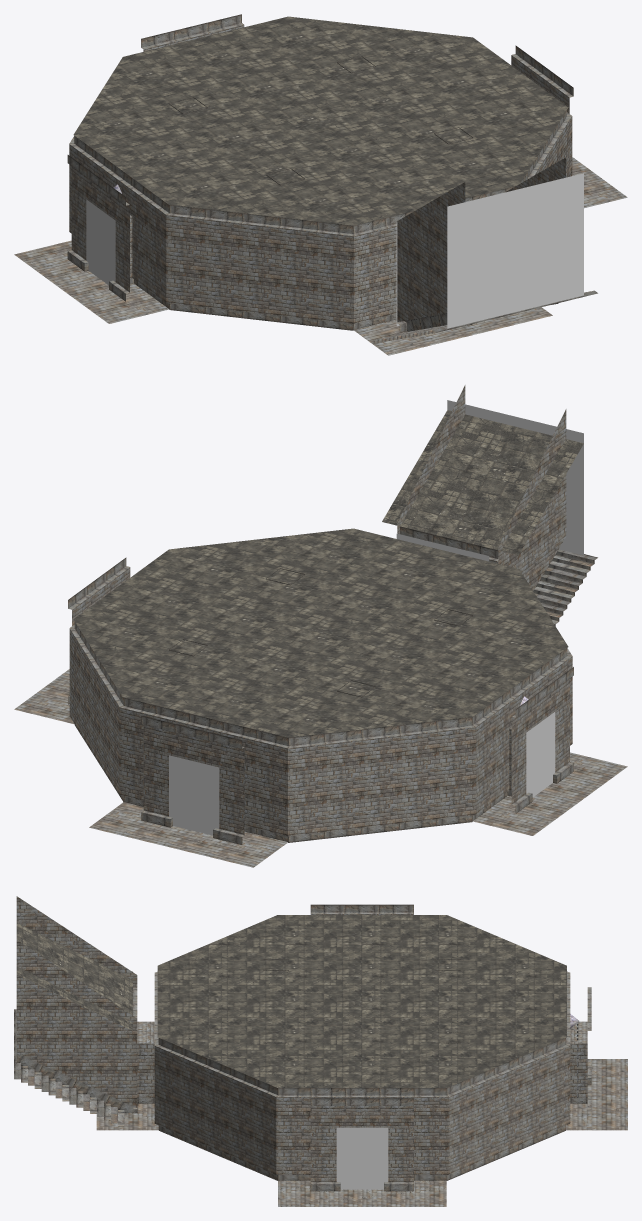
The model's file is HubRoom.fbx.
3 renders of one model, top to bottom at view 1: azimuth 30°, elevation 25°; view 2: azimuth 150°, elevation 25°; view 3: azimuth 270°, elevation 25°, orthographic. The views are drawn at different scales.
Parts seen in each view (by area): view 1: Ceiling, Walls, ExitHole, Floor, StairsWalls, BlackPlane, Stairs; view 2: Ceiling (×2), Walls, Floor, StairsWalls, BlackPlane (×2), ExitHole, Stairs; view 3: Ceiling (×2), Walls, StairsWalls, Floor, BlackPlane, Stairs.
Part boxes in pixels (left/top/right/bottom): Ceiling: left=73, top=16, right=568, bottom=225; Walls: left=67, top=14, right=573, bottom=332; ExitHole: left=447, top=173, right=583, bottom=328; Floor: left=14, top=157, right=627, bottom=355; StairsWalls: left=397, top=157, right=565, bottom=331; BlackPlane: left=86, top=199, right=115, bottom=285; Stairs: left=373, top=290, right=597, bottom=343; Ceiling (×2): left=73, top=410, right=583, bottom=737; Walls: left=68, top=526, right=573, bottom=844; Floor: left=14, top=669, right=627, bottom=867; StairsWalls: left=397, top=385, right=566, bottom=590; BlackPlane (×2): left=169, top=712, right=555, bottom=835; ExitHole: left=447, top=400, right=583, bottom=555; Stairs: left=533, top=549, right=597, bottom=625; Ceiling (×2): left=16, top=915, right=566, bottom=1087; Walls: left=133, top=904, right=591, bottom=1191; StairsWalls: left=16, top=896, right=137, bottom=1113; Floor: left=96, top=1059, right=627, bottom=1206; BlackPlane: left=336, top=1127, right=388, bottom=1189; Stairs: left=14, top=1009, right=124, bottom=1126.
Bounding box in the file's own units: 2315 × 886 × 2674.
